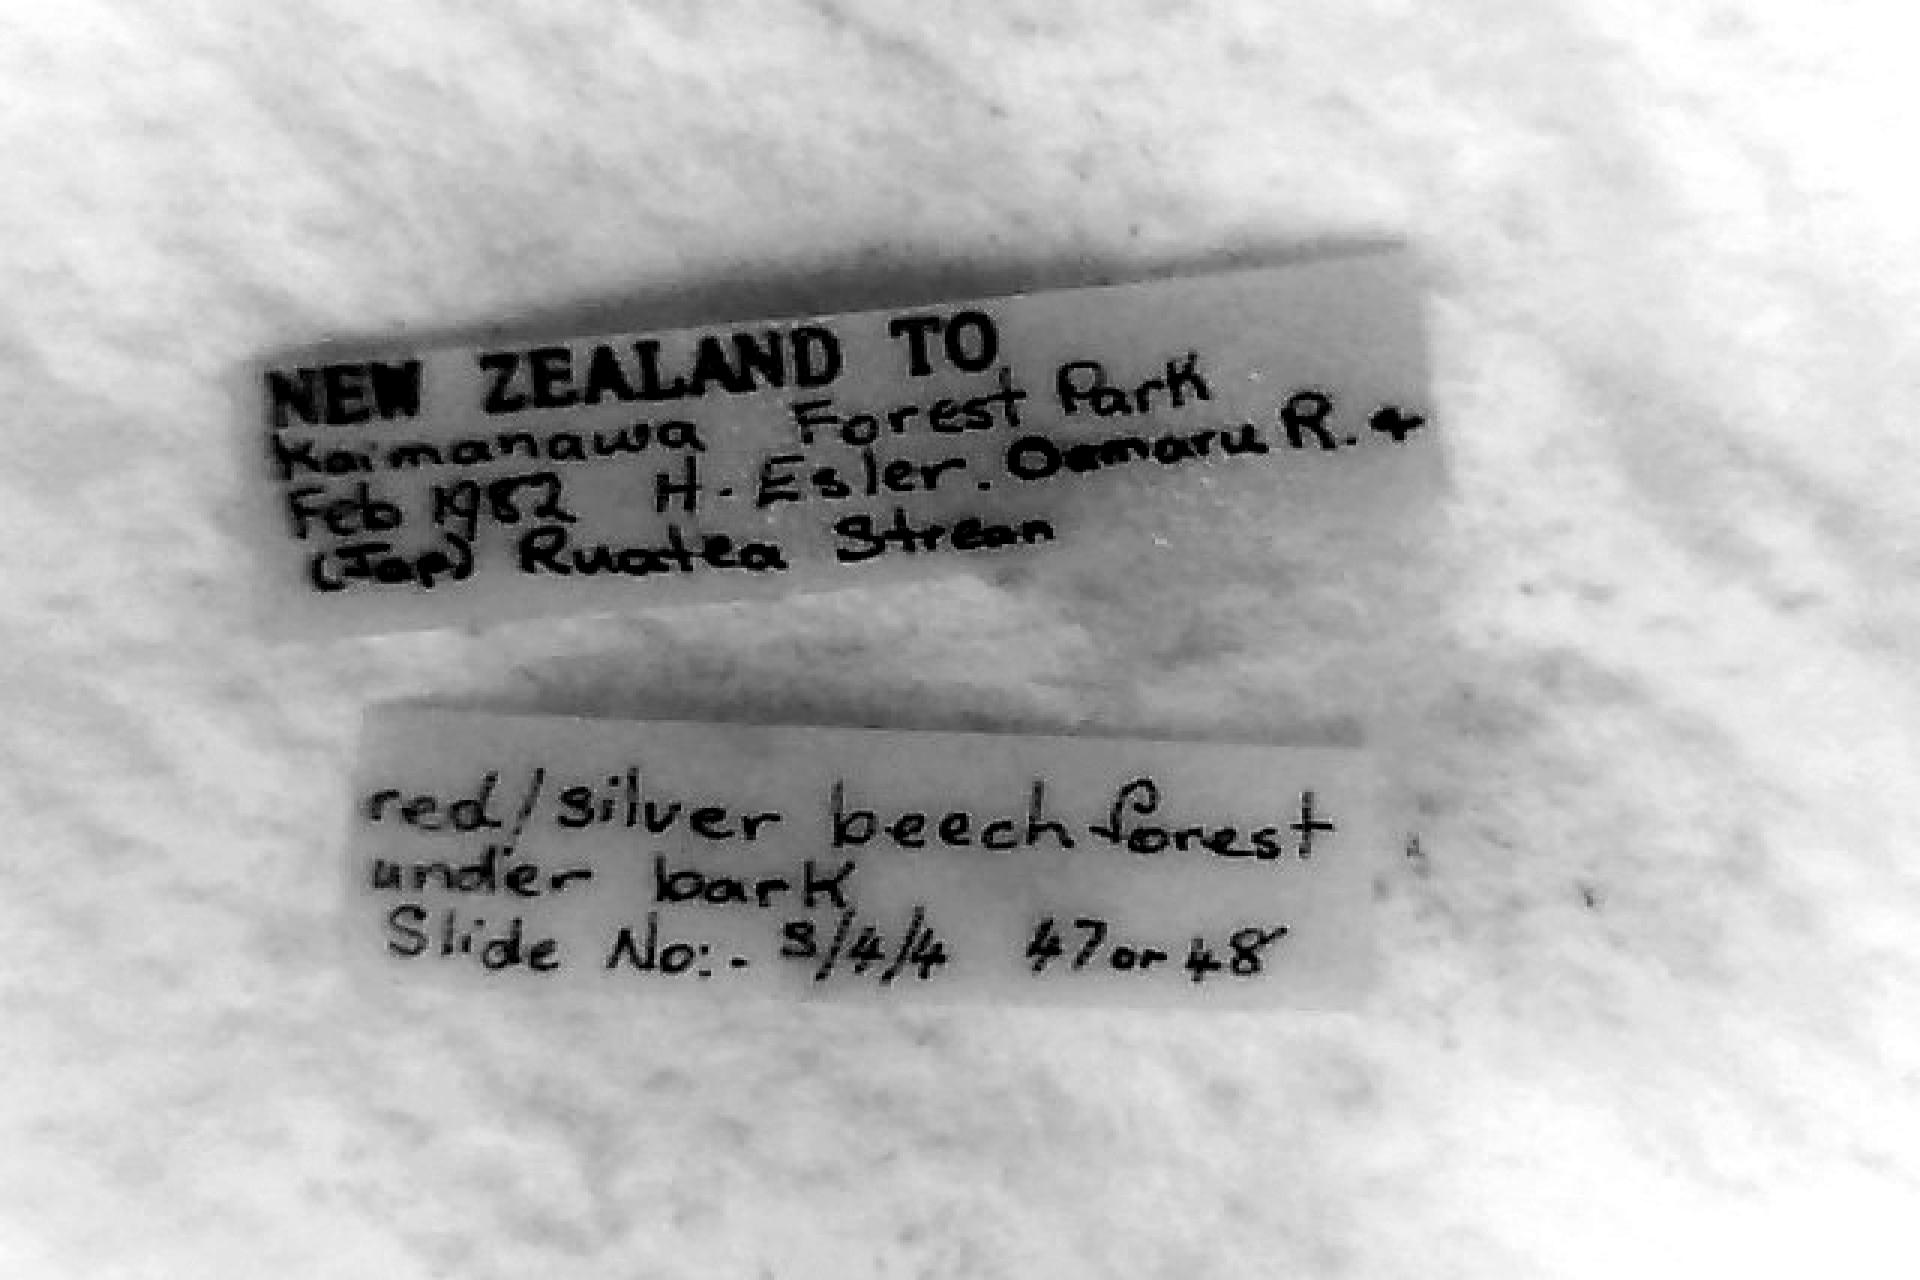hand_label: (259, 253, 1429, 630), (352, 703, 1372, 1005)
